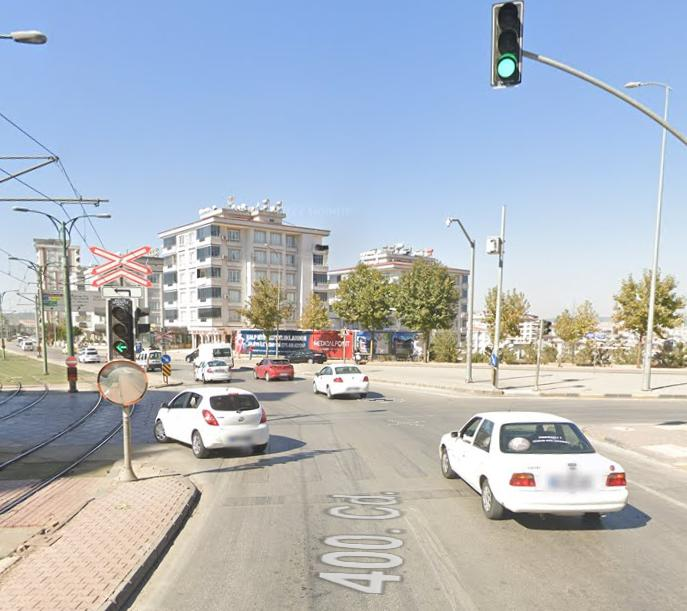greenlight: (492, 7, 523, 84), (108, 300, 134, 359)
